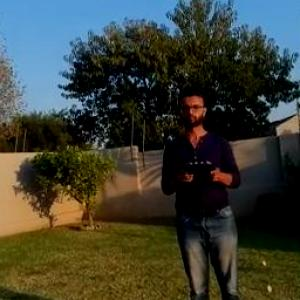follow: (153, 81, 256, 299)
